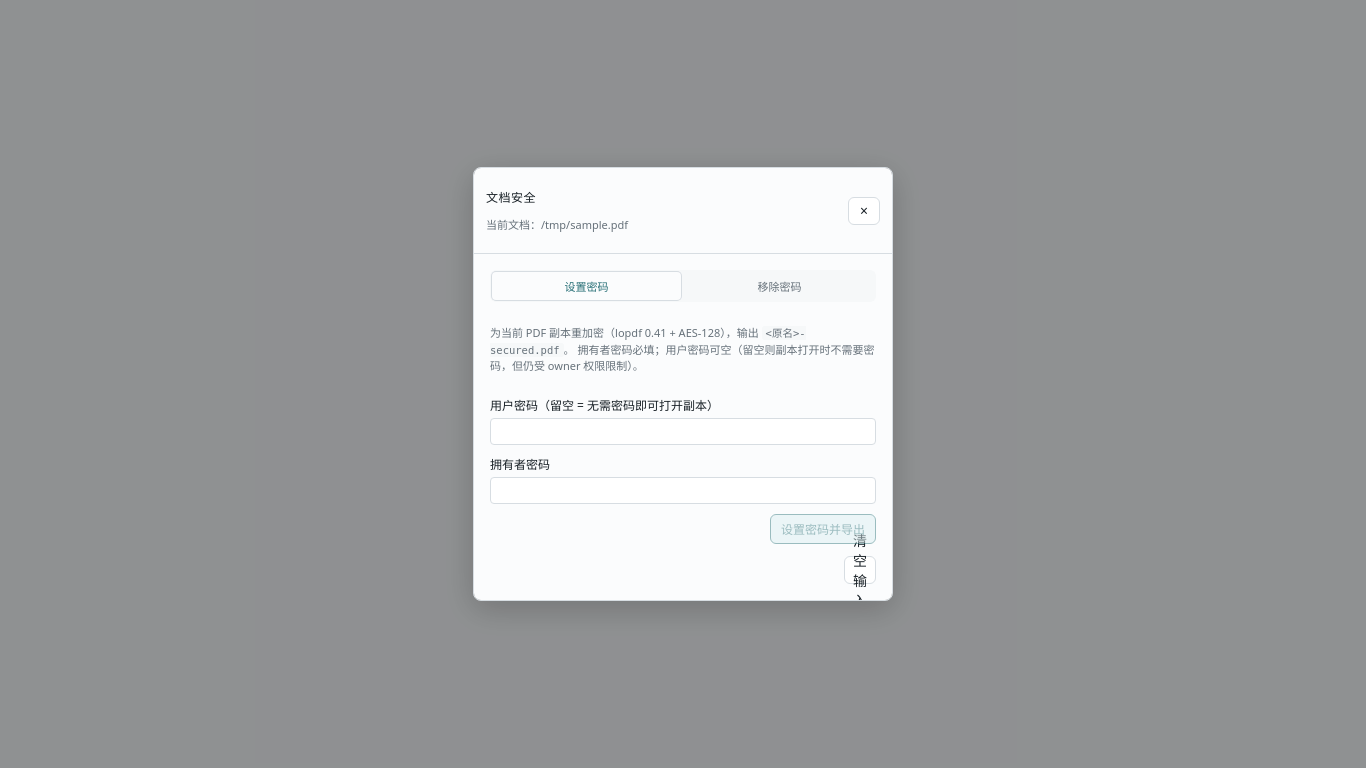
Test: SecurityPanel (ISS-064 阶段 1 + DEC-102 P1-4) › remove 模式：Unknown 错误 → fallback 到原始 message
The width and height of the screenshot is (1366, 768).
Click the button "移除密码": x=780, y=286 [685,272,874,300]
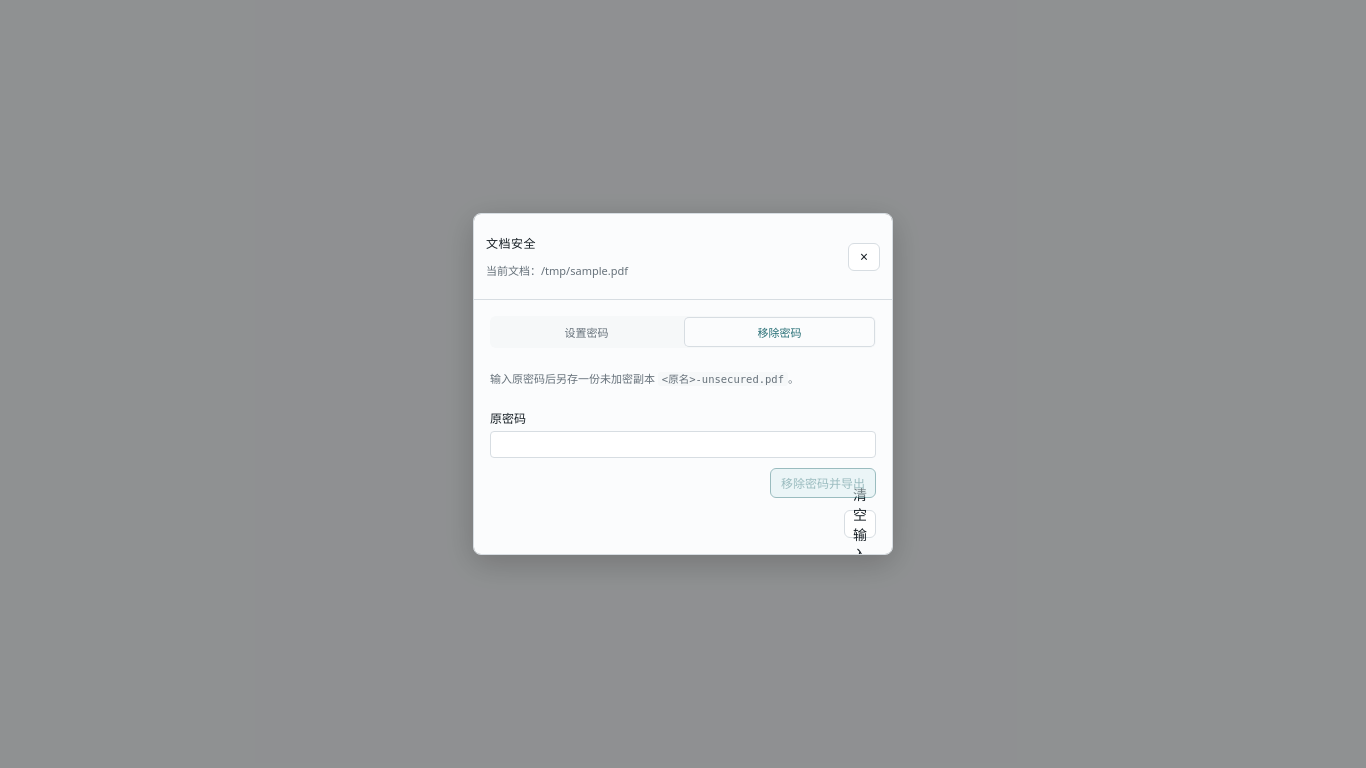
In the password field labelled "原密码": x=683, y=444 [490,431,876,458], type "any"
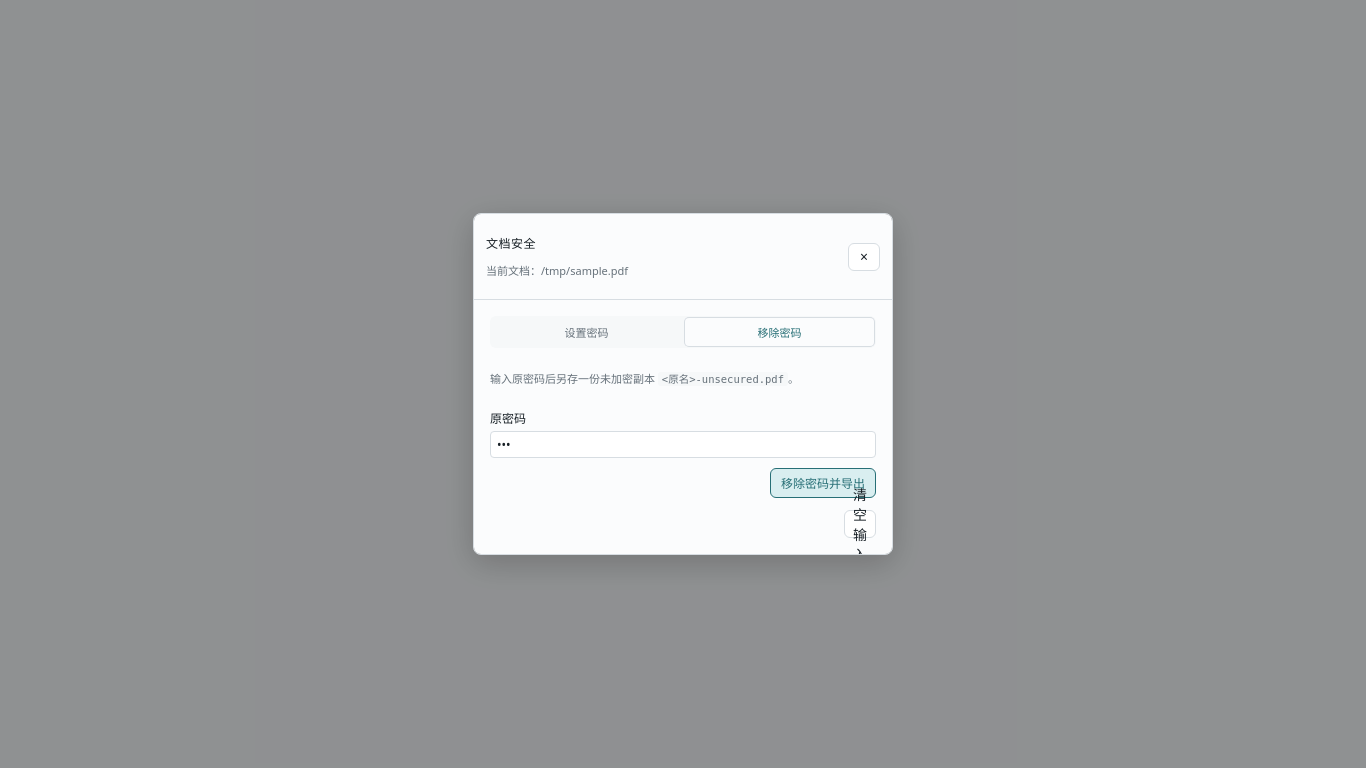
Click the button "移除密码并导出": x=823, y=483 [770,468,876,498]
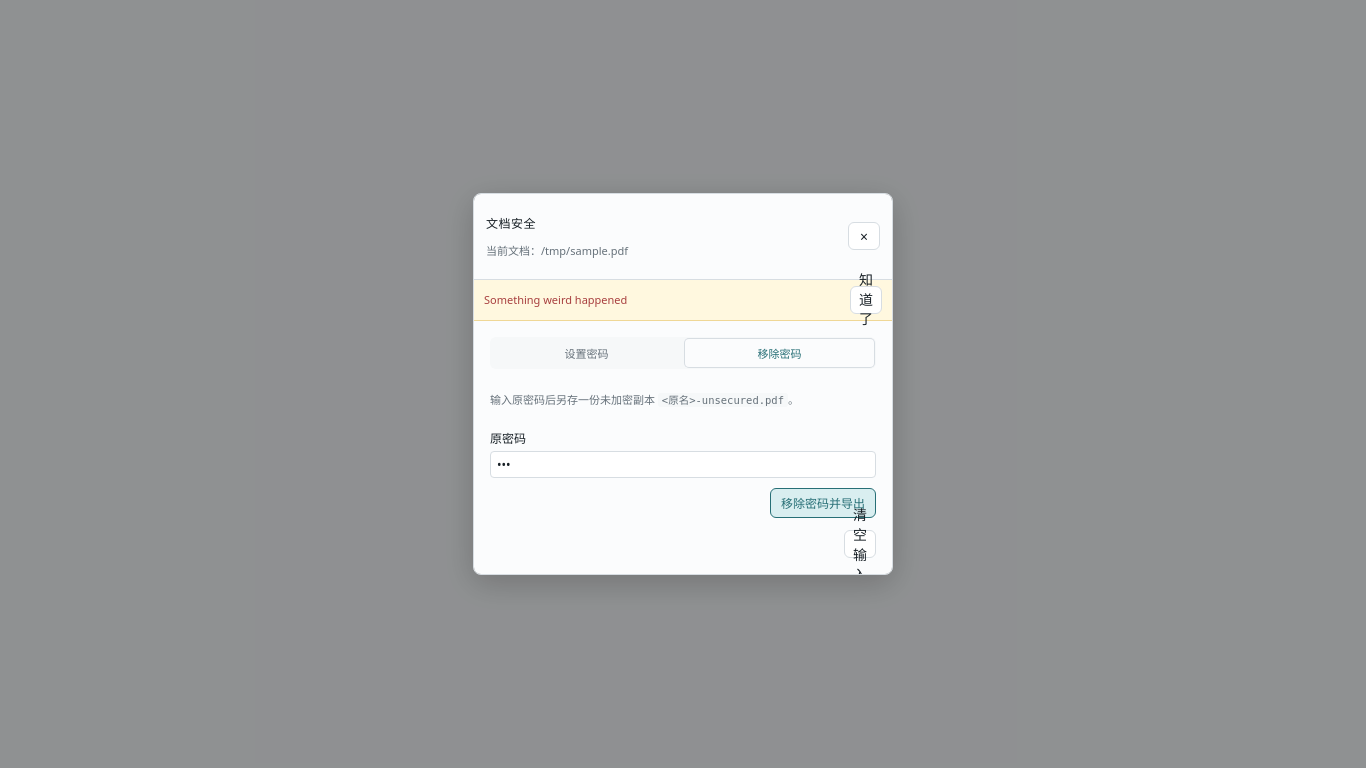
Expected: the message shows "Something weird happened", [484,292,627,307]
